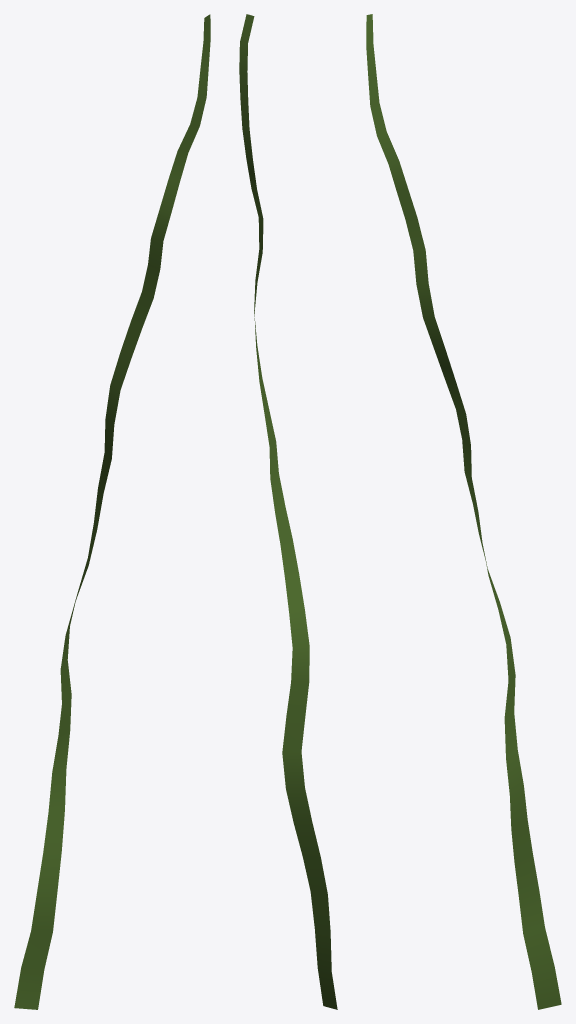
Rendered from plant_swamp_kelp_long_solo_E.fbx.
3 views of the same model, side by side, from view 1: azimuth 90°, elevation 25°; view 2: azimuth 210°, elevation 25°; view 3: azimuth 270°, elevation 25° (orthographic). The views are drawn at different scales.
Visible parts, largest first — view 1: plant_swamp_kelp_long_solo_E; view 2: plant_swamp_kelp_long_solo_E; view 3: plant_swamp_kelp_long_solo_E.
Part boxes in pixels (bbox=[...]): plant_swamp_kelp_long_solo_E: bbox=[14, 14, 210, 1009]; plant_swamp_kelp_long_solo_E: bbox=[239, 14, 337, 1009]; plant_swamp_kelp_long_solo_E: bbox=[366, 14, 561, 1009].
Bounding box in the file's own units: 11.63 × 298 × 53.2.
